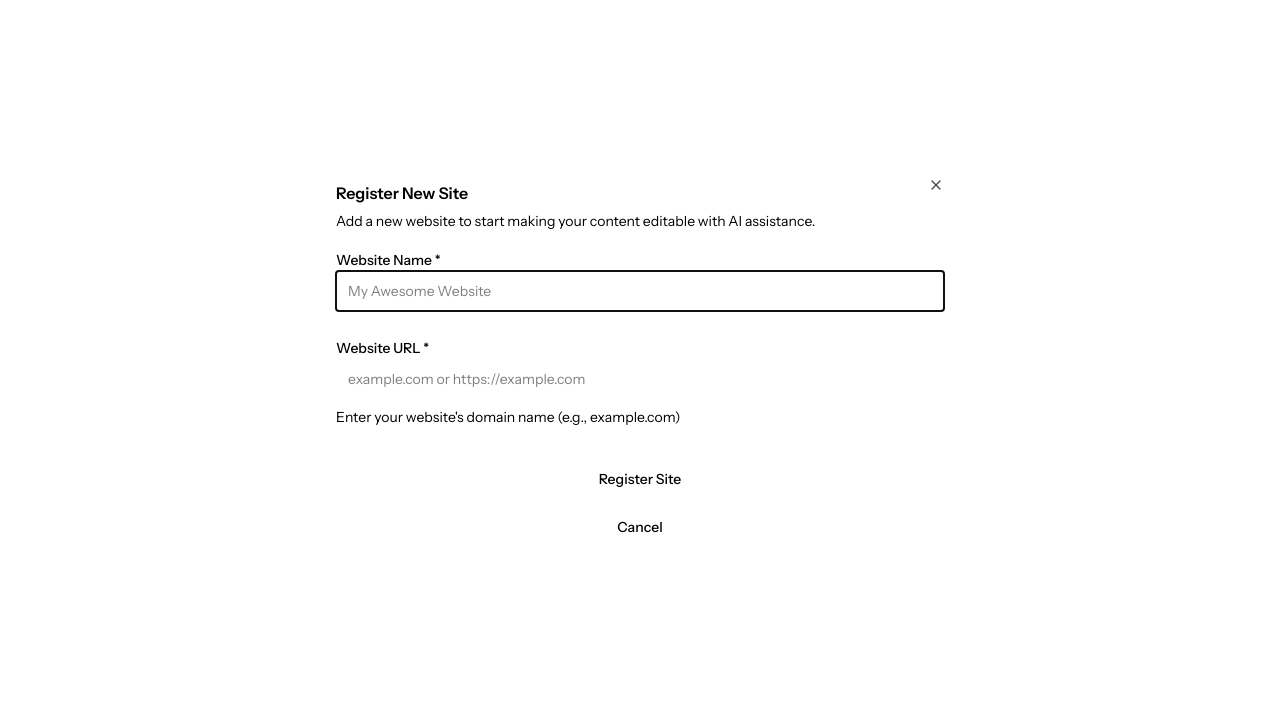
Test: SiteRegistrationModal › Form Validation › should show error when website URL is empty
The image size is (1280, 720).
Type "Test Site" into the field labelled "Website Name *".
click(640, 291); type("Test Site")  # box [336,271,944,311]
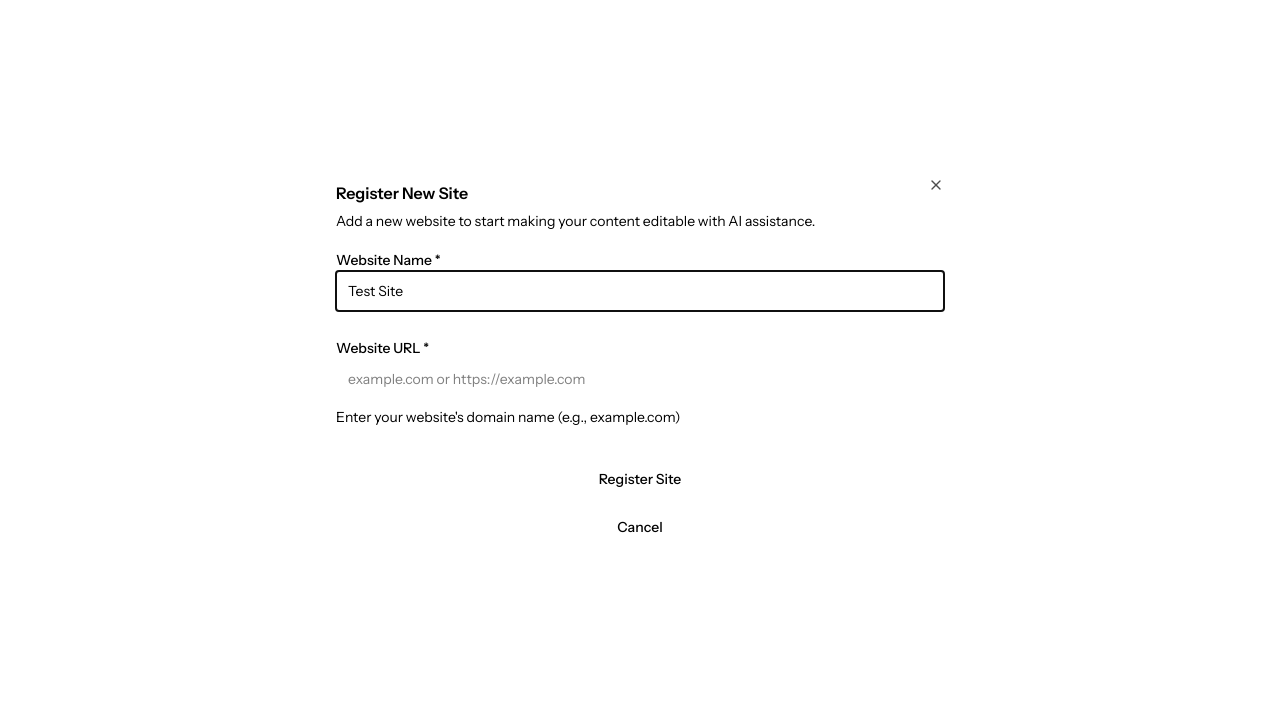
Click the button "Register Site".
click(640, 479)  # box [336,459,944,499]
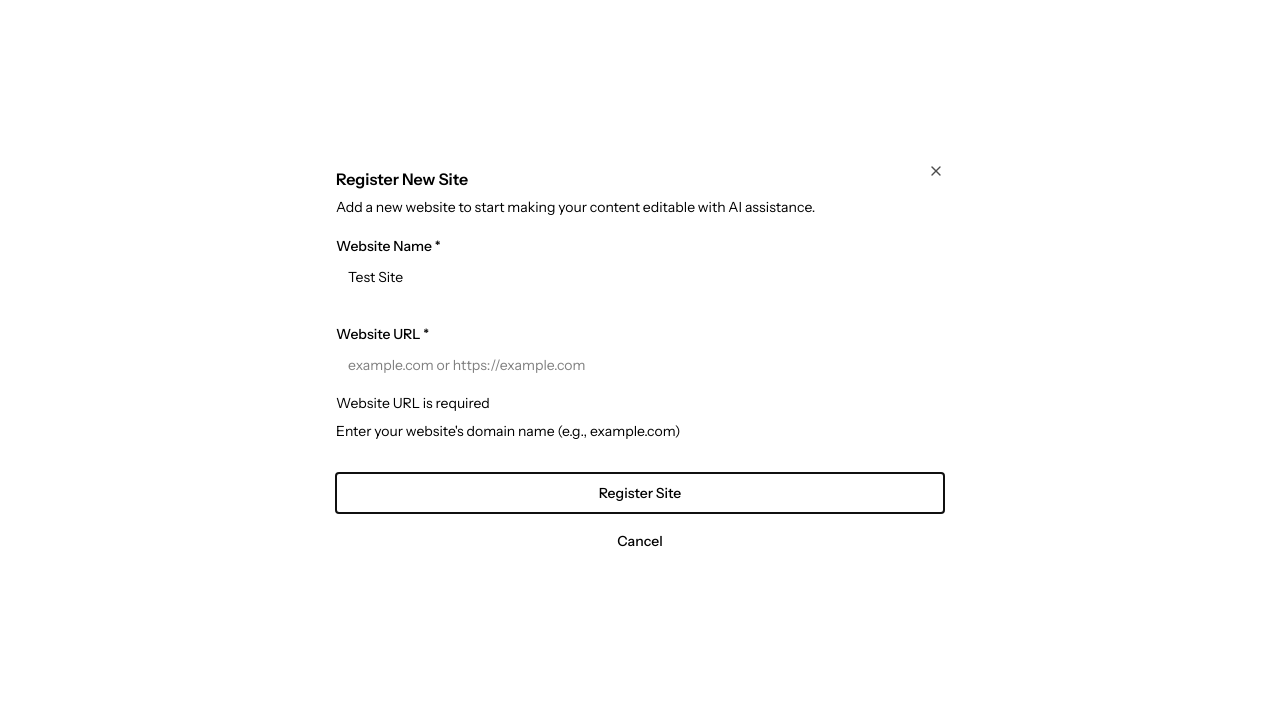
Result: the text "Website URL is required" is shown at [336,394,490,412]
